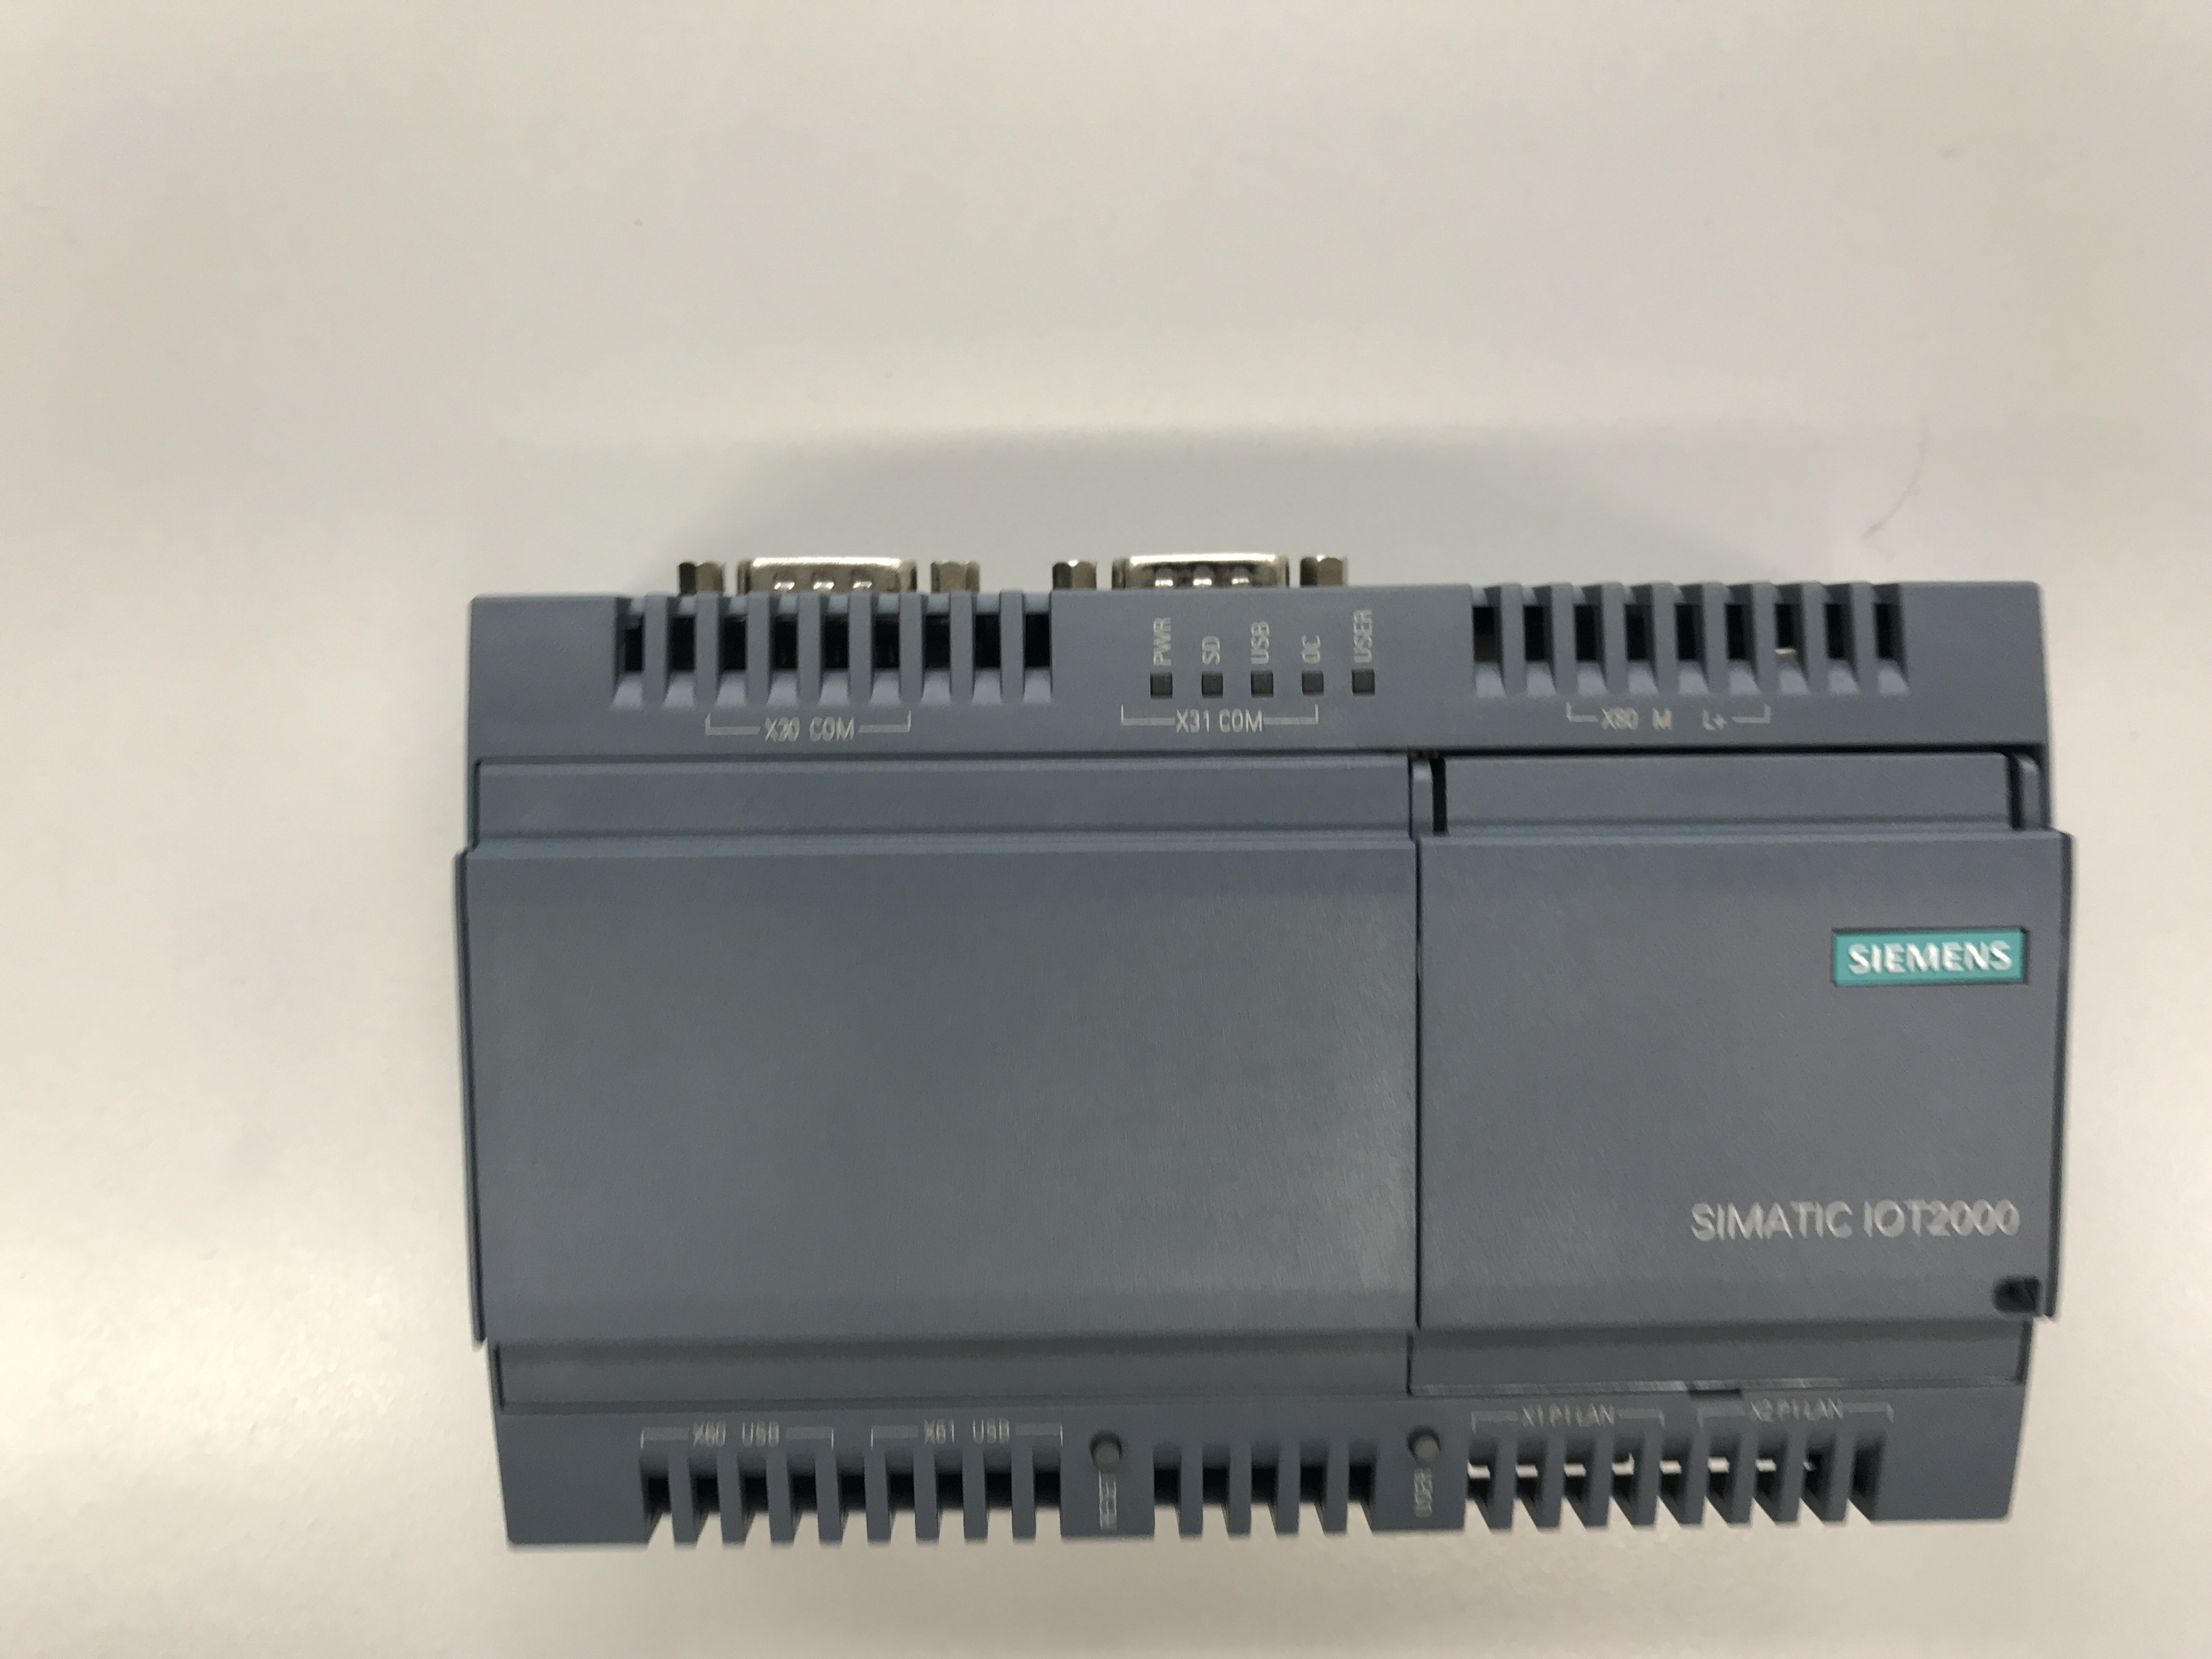device: (451, 552, 2078, 1551)
